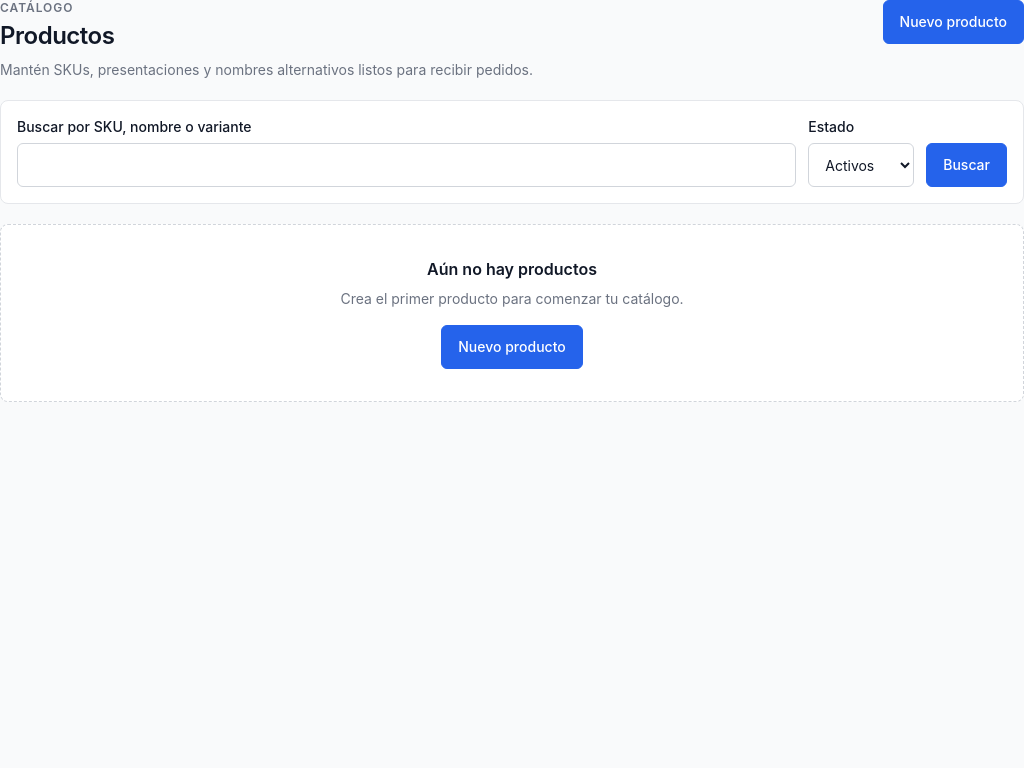
Test case: product catalog page › validates create, focuses SKU, handles duplicate, then saves
Check: the heading "Aún no hay productos" is shown, box [427,259,597,279]
Click the 1st button "Nuevo producto".
click(953, 22)  # box [883,0,1023,44]
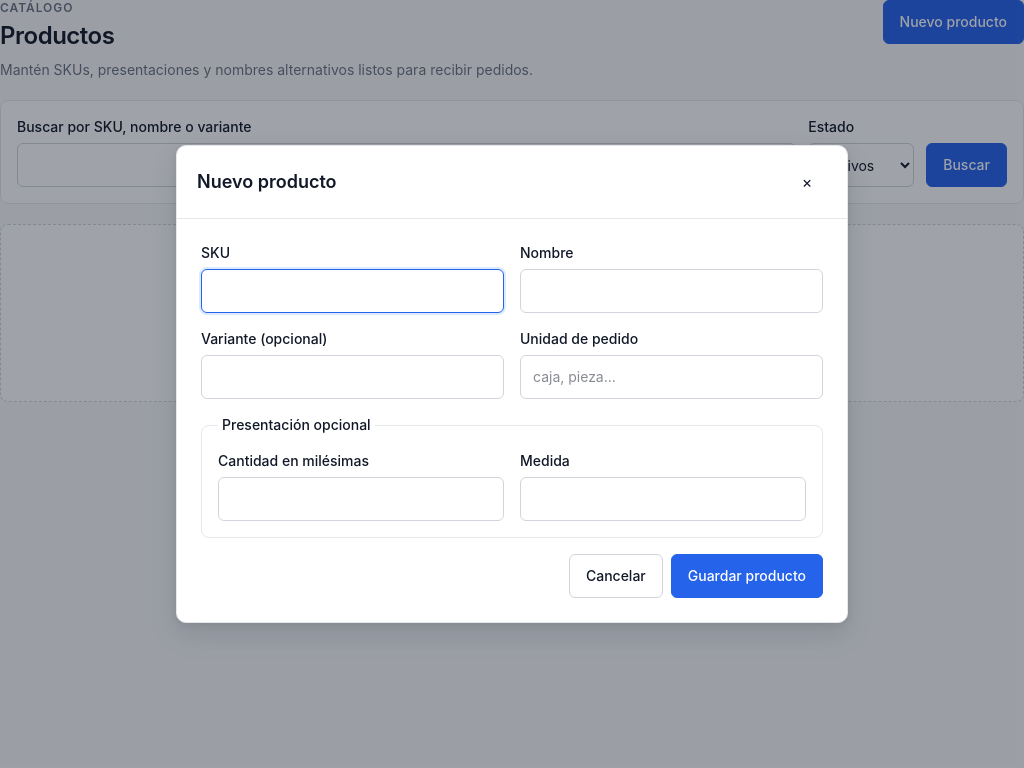
Click the button "Guardar producto".
click(747, 576)  # box [671,554,823,598]
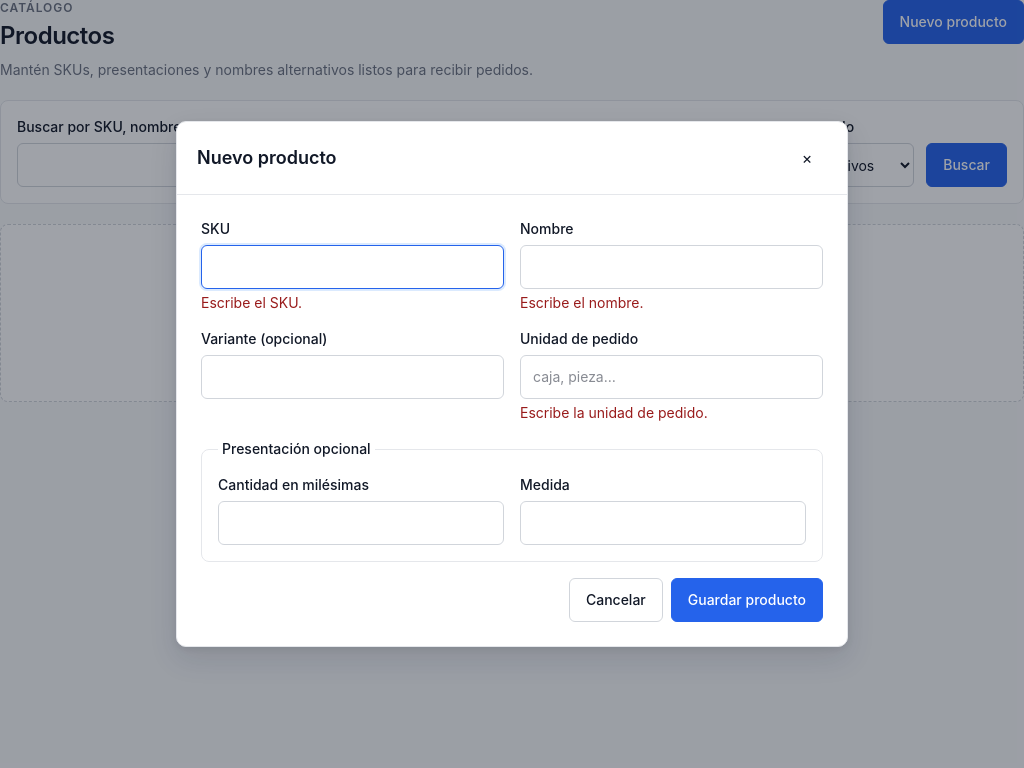
Check: the text "Escribe el SKU." is shown, box [201,294,302,311]
Type "SKU-X" into the field labelled "SKU".
click(352, 267); type("SKU-X")  # box [201,245,504,289]
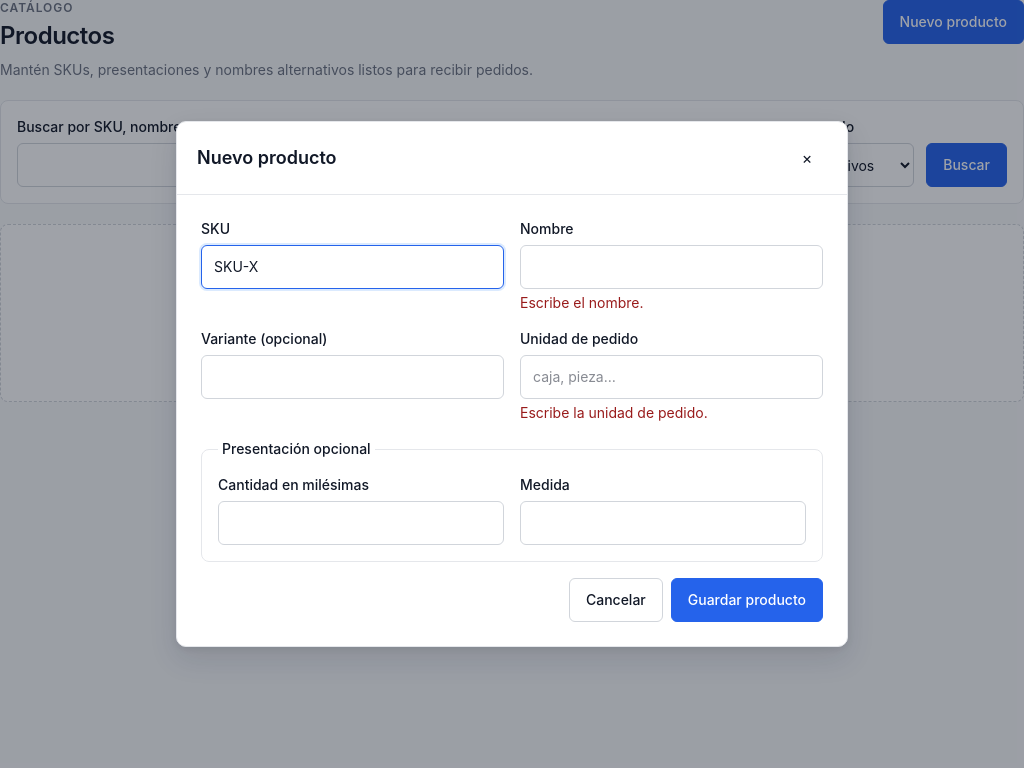
Type "Pera" into the field labelled "Nombre".
click(672, 267); type("Pera")  # box [520,245,823,289]
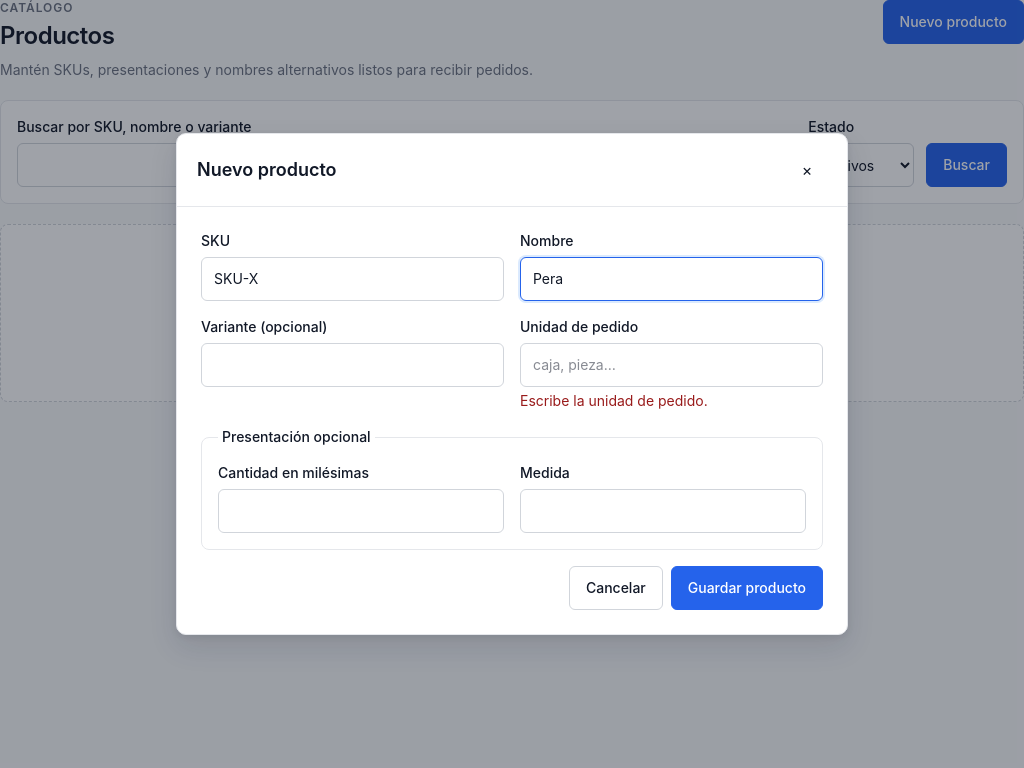
Type "caja" into the field labelled "Unidad de pedido".
click(672, 365); type("caja")  # box [520,343,823,387]
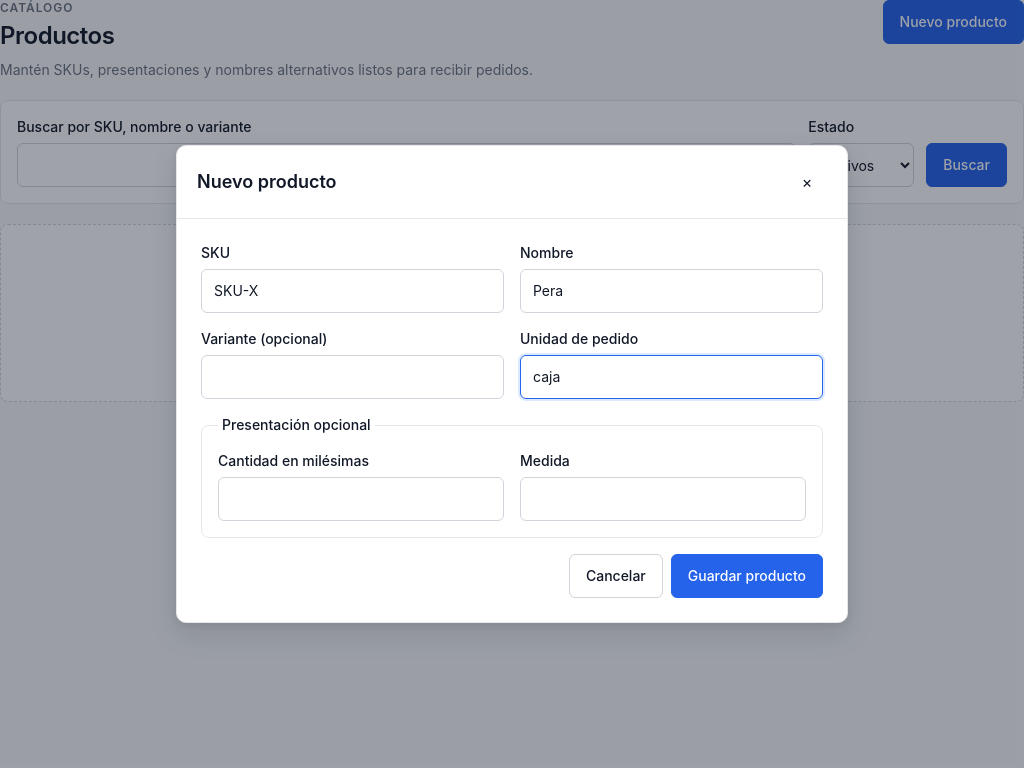
Click the button "Guardar producto".
click(747, 576)  # box [671,554,823,598]
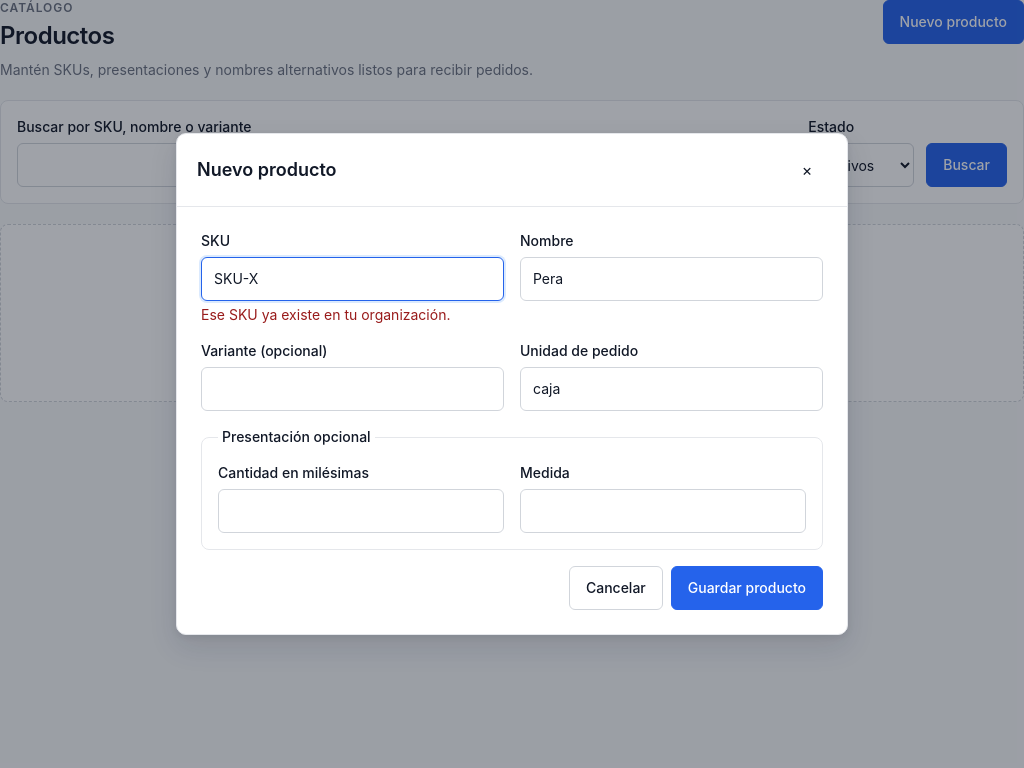
Check: the text "Ese SKU ya existe en tu organización." is shown, box [201,306,450,323]
